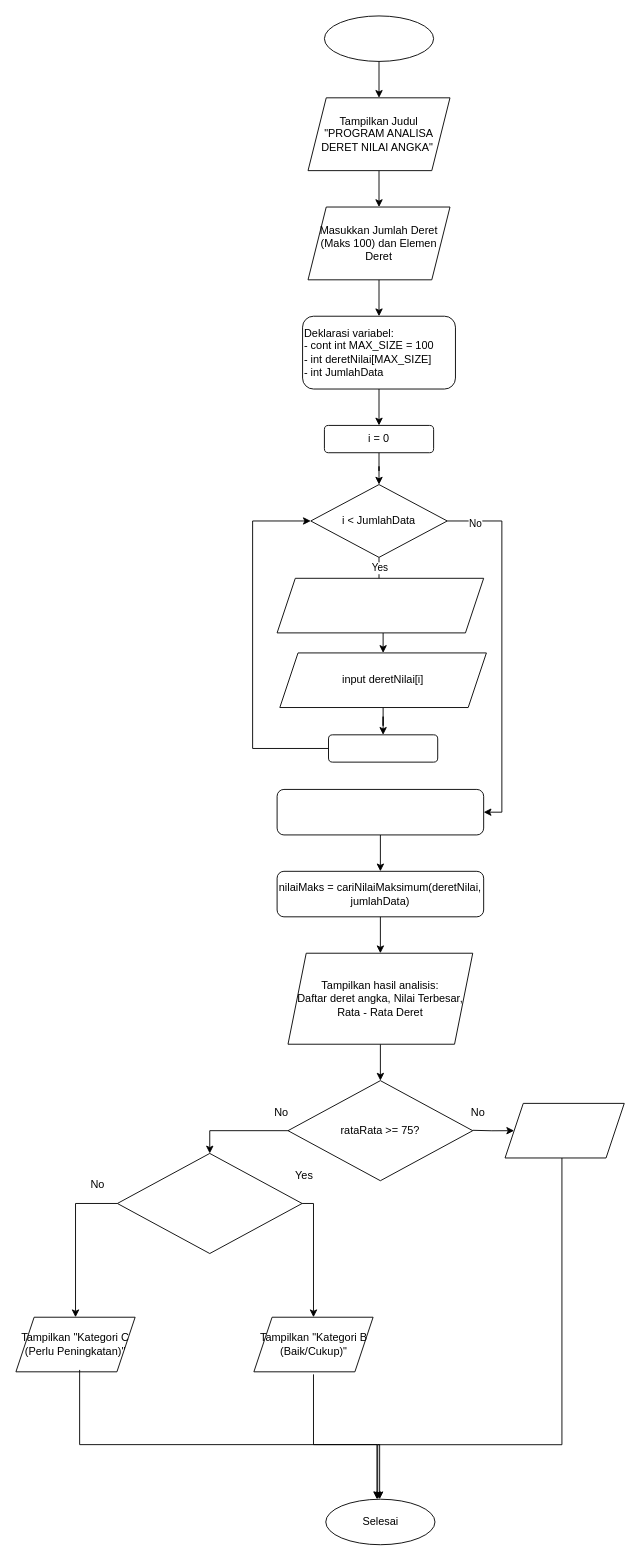
Some shapes in this 641 by 1561 pixel diagram are drawn without their labels. The centre of each missing label's shape, as x and y in pixels:
i = i + 1: [383,748]
MULAI: [379,38]
rataRata = hitungRataRata(deretNilai, jumlahData): [380,812]
rataRata >= 60?: [209,1203]
Tampilkan "Data ke-" (i + 1): [380,605]
Tampilkan "Kategori A (Sangat Baik)": [564,1130]
